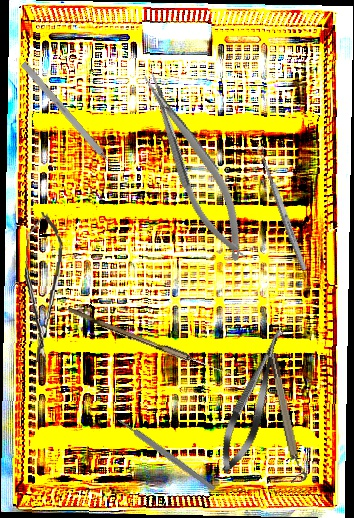Fixation Ring: (266, 351, 309, 484)
Hook Surgical: (20, 61, 122, 176)
Micro Scissor: (210, 320, 297, 479), (18, 211, 65, 369)
Needle Holder: (134, 63, 258, 270)
Scalpel Handle: (117, 416, 217, 493)
Surgical Spoon: (65, 307, 236, 379), (255, 144, 309, 273)
